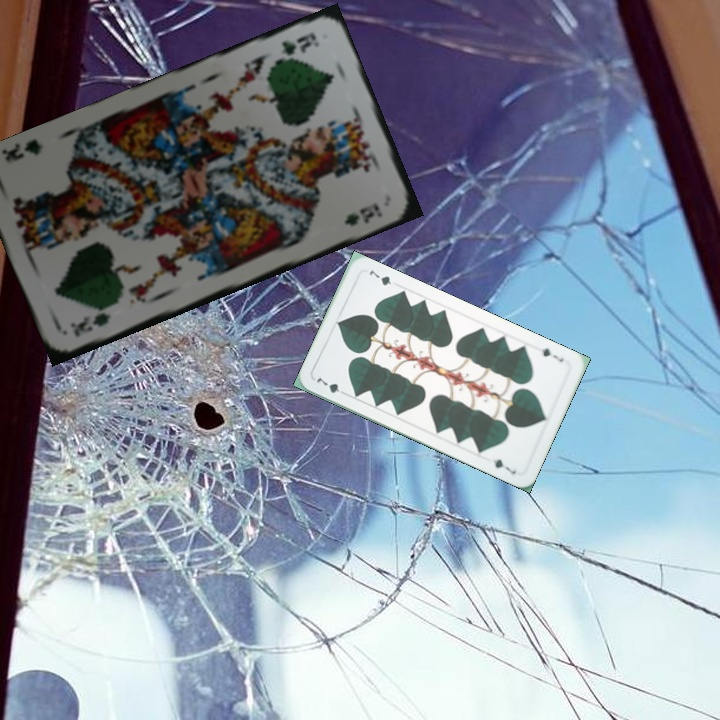G7: (312, 374, 350, 398), (537, 344, 566, 364)
GK: (66, 308, 113, 340), (276, 28, 322, 58)
